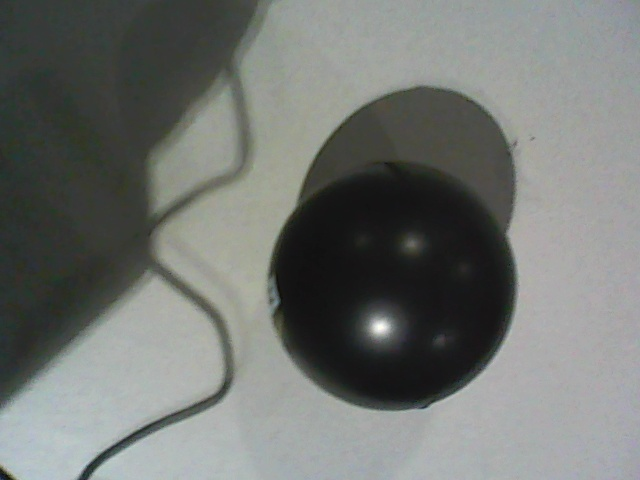ball: (266, 162, 517, 412)
